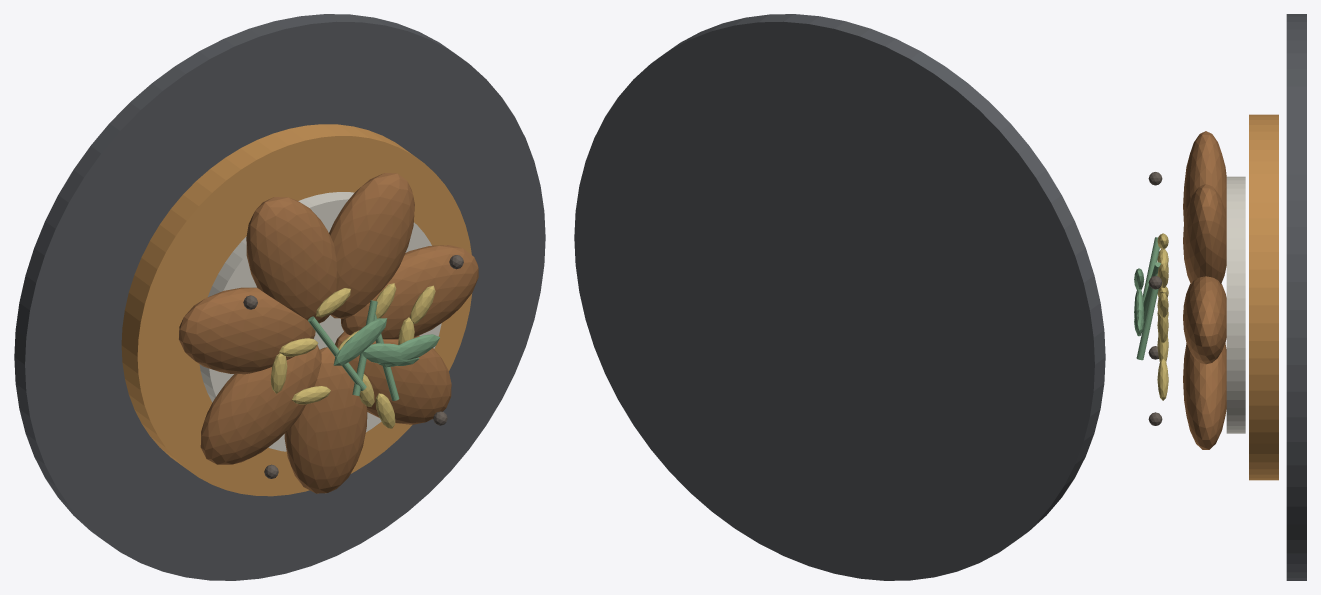
Rendered from coal-roasted-pumpkin.glb.
3 renders of one model, left to right at view 1: azimuth 30°, elevation 25°; view 2: azimuth 150°, elevation 25°; view 3: azimuth 270°, elevation 25°, orthographic. The views are drawn at different scales.
Parts seen in each view (by area): view 1: Plate, CharredPumpkin, PumpkinBase, CulturedCream, SeedCrumb, HerbGarnish, SmokeSalt; view 2: Plate; view 3: CharredPumpkin, Plate, PumpkinBase, CulturedCream, SeedCrumb, HerbGarnish, SmokeSalt.
Boxes of the visible parts, bbox=[...] form: Plate: bbox=[14, 14, 545, 580]; CharredPumpkin: bbox=[179, 173, 478, 493]; PumpkinBase: bbox=[121, 124, 472, 496]; CulturedCream: bbox=[199, 192, 441, 451]; SeedCrumb: bbox=[270, 283, 435, 428]; HerbGarnish: bbox=[308, 300, 439, 400]; SmokeSalt: bbox=[243, 255, 463, 478]; Plate: bbox=[574, 14, 1105, 580]; CharredPumpkin: bbox=[1183, 131, 1226, 449]; Plate: bbox=[1286, 14, 1306, 580]; PumpkinBase: bbox=[1249, 114, 1278, 480]; CulturedCream: bbox=[1226, 176, 1245, 433]; SeedCrumb: bbox=[1157, 233, 1168, 400]; HerbGarnish: bbox=[1134, 237, 1160, 360]; SmokeSalt: bbox=[1148, 172, 1162, 425].
Size of the model in its own units: 4.5 by 4.5 by 1.37.
